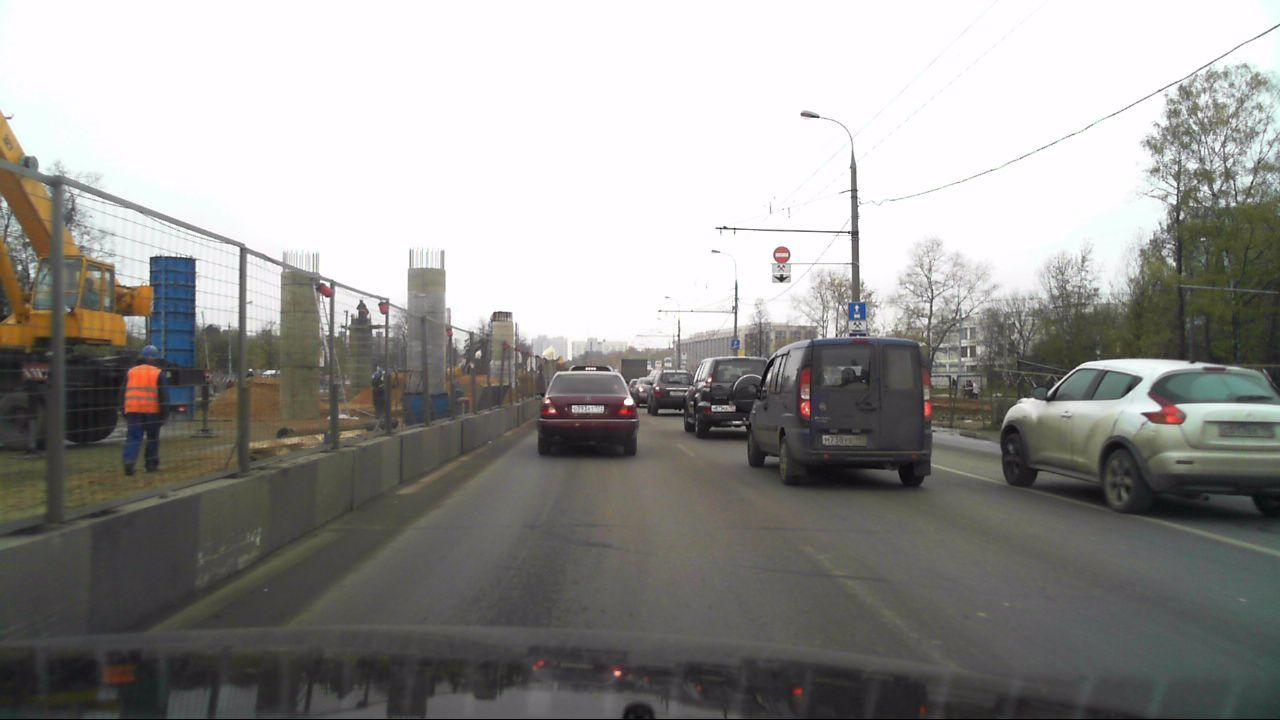3_1: (772, 246, 790, 262)
5_14_1: (848, 302, 865, 320)
5_8: (850, 333, 868, 338)
6_6: (731, 339, 741, 349)
8_14: (771, 273, 792, 284)
8_5_2: (847, 320, 866, 331), (772, 264, 790, 273)
